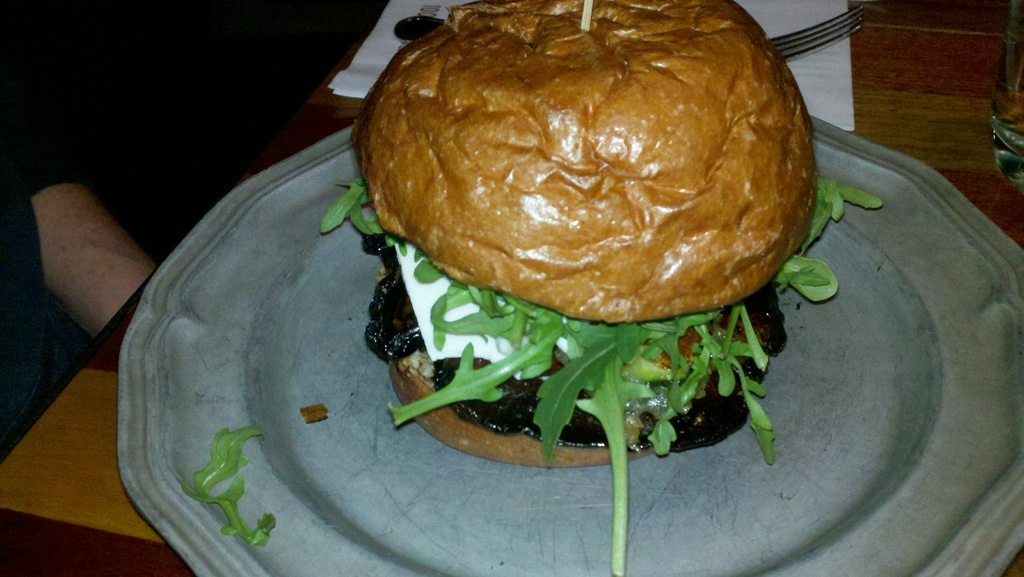Hamburger: (318, 0, 885, 576)
